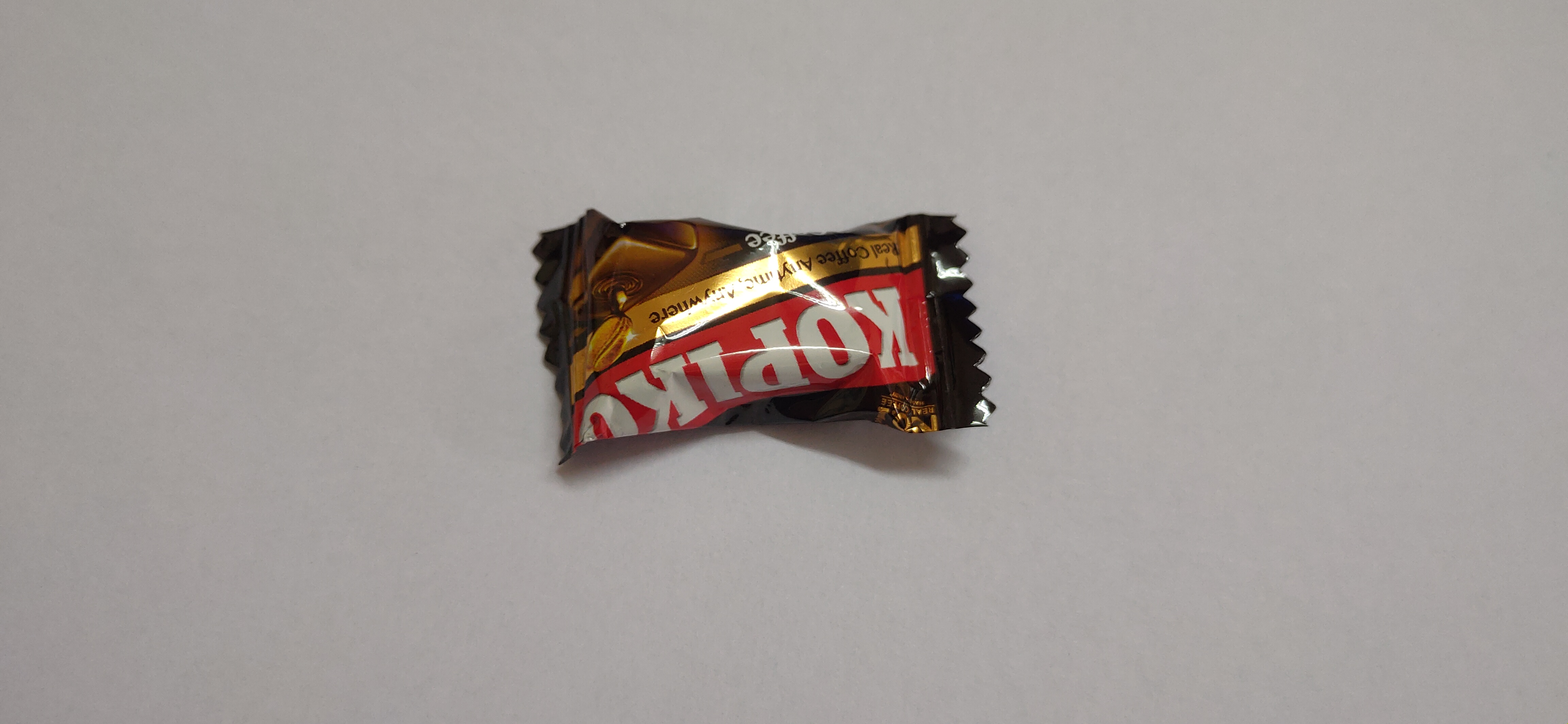plastic: (508, 195, 1013, 483)
